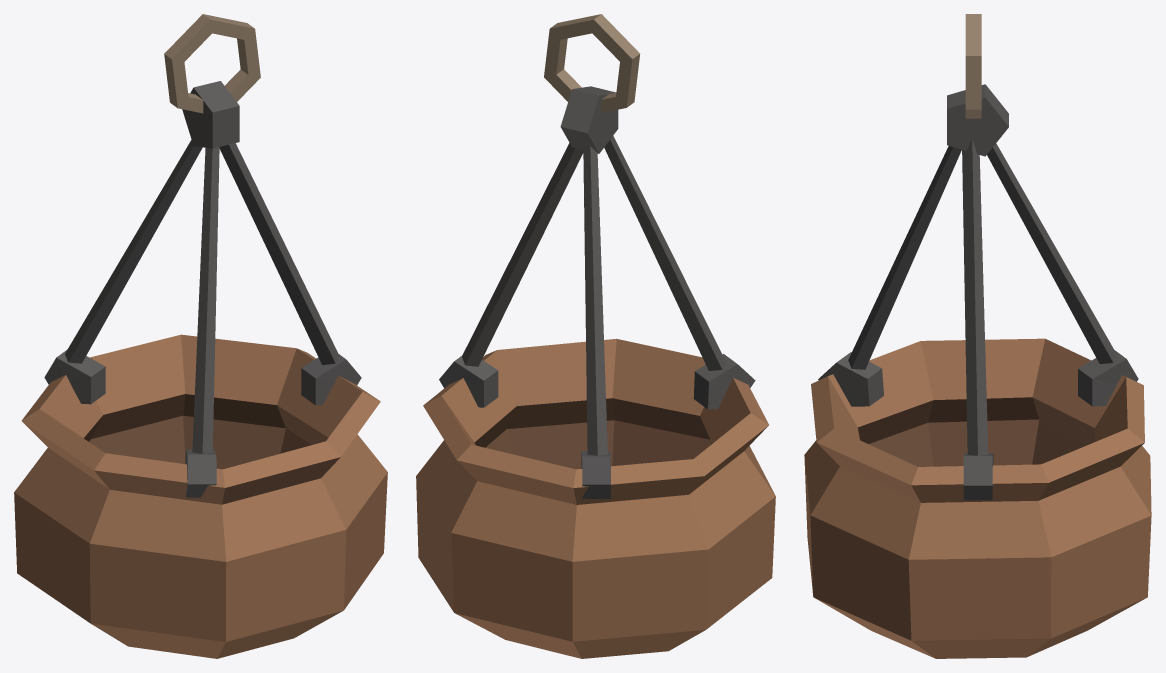
File: SM_Prop_Pot_Hanging_01.fbx
3 renders of one model, left to right at view 1: azimuth 30°, elevation 25°; view 2: azimuth 150°, elevation 25°; view 3: azimuth 270°, elevation 25°, orthographic.
Visible parts, largest first — view 1: SM_Prop_Pot_Hanging_01; view 2: SM_Prop_Pot_Hanging_01; view 3: SM_Prop_Pot_Hanging_01.
Part boxes in pixels (bbox=[...]): SM_Prop_Pot_Hanging_01: bbox=[14, 14, 387, 658]; SM_Prop_Pot_Hanging_01: bbox=[416, 14, 775, 658]; SM_Prop_Pot_Hanging_01: bbox=[804, 14, 1151, 658].
Size of the model in its own units: 75.35 by 141 by 74.27.
